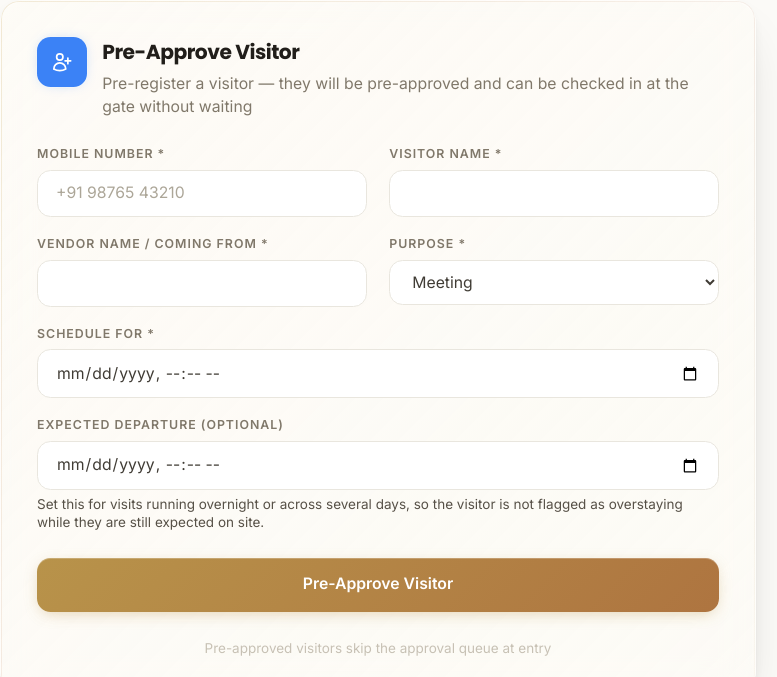
PreApproveForm phone recall › recallByPhone detects blacklist on blur
Type "5555666660" into the field with placeholder "+91 98765 43210". click: (202, 193)
box: [37,170,367,217]
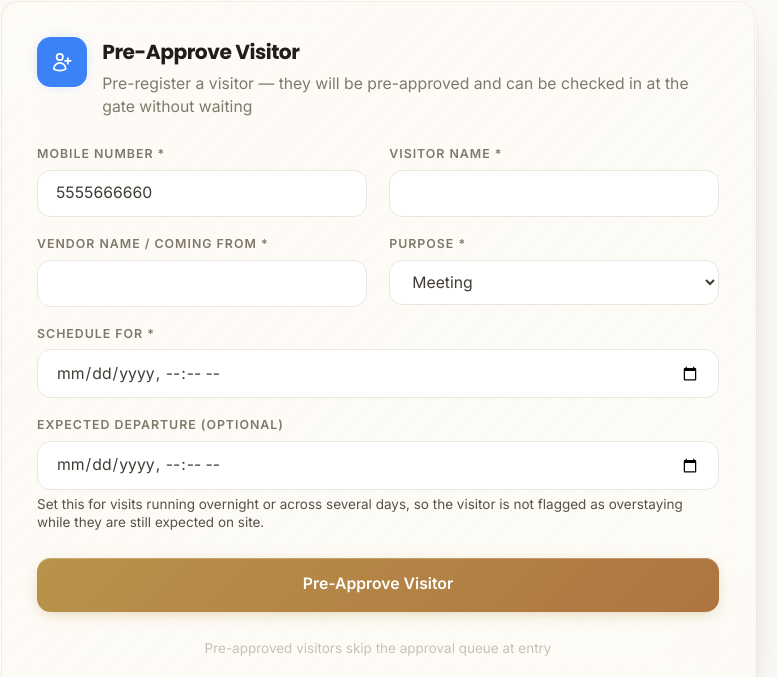
Leave the field below "Mobile Number *", box [37,170,367,217]
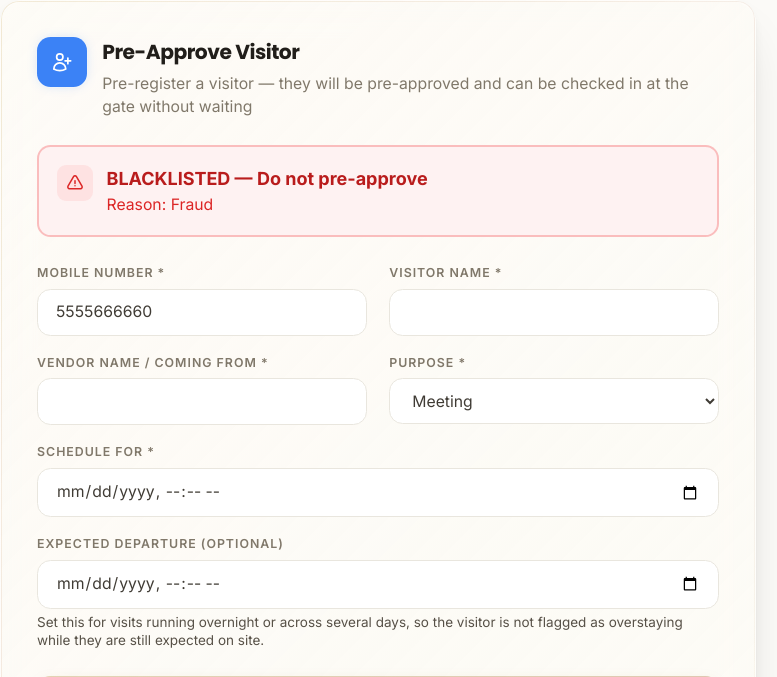
Expected: the text "BLACKLISTED — Do not pre-approve" is shown, [106,165,428,192]
